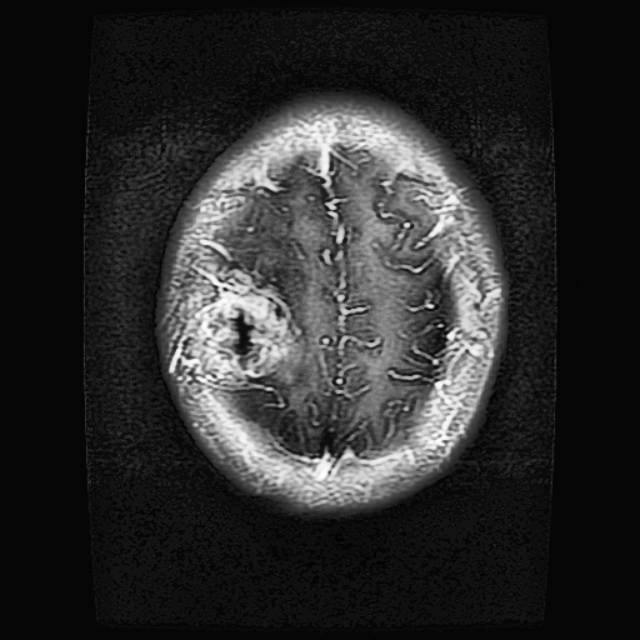Meningioma: (202, 287, 293, 378)
